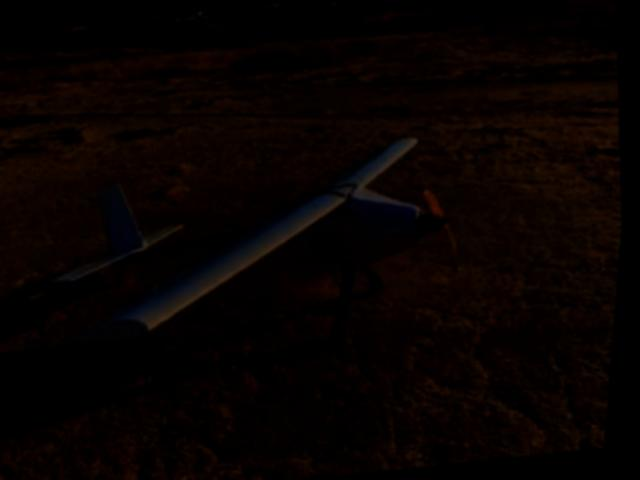uav: (31, 127, 480, 372)
